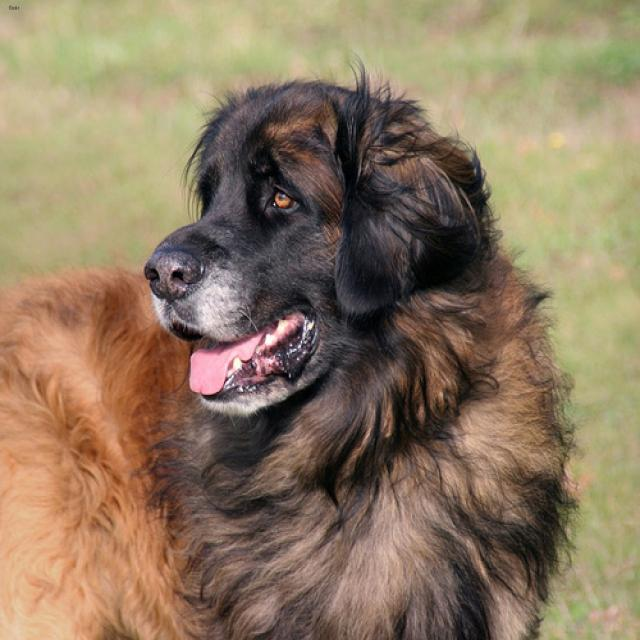dog-leonberger: (1, 44, 584, 637)
